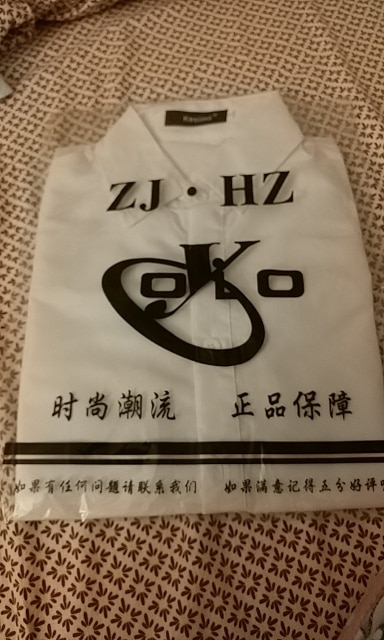shirts: (13, 100, 380, 523)
